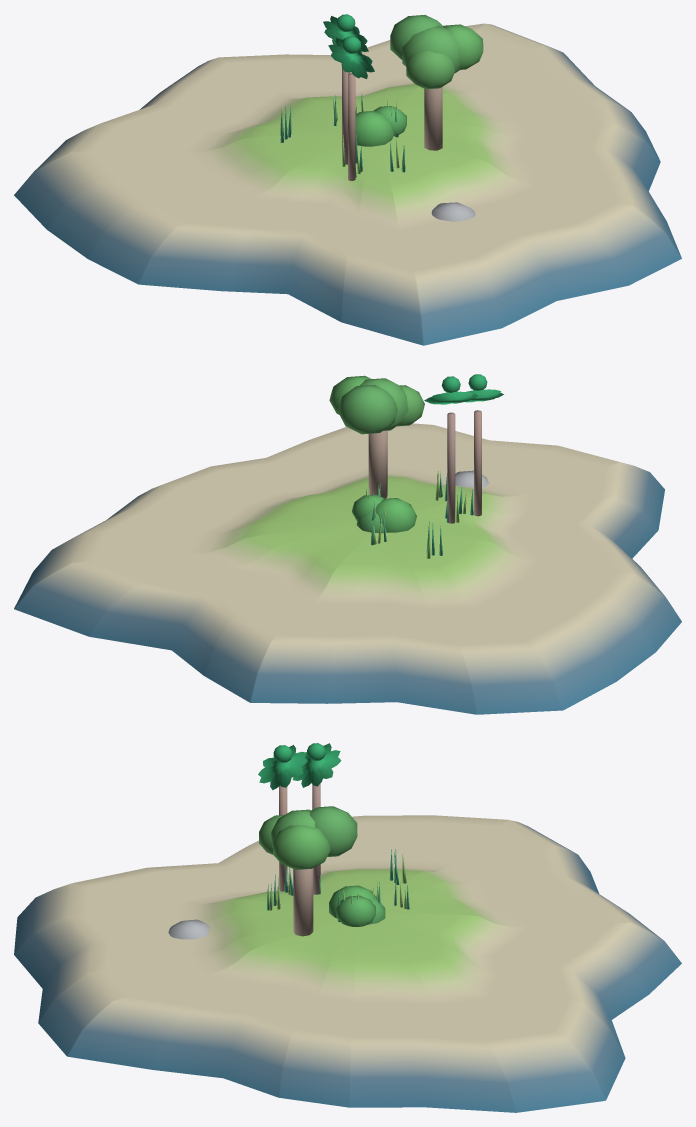
File: terrain_island_12.glb
3 views of the same model, one above another, from view 1: azimuth 30°, elevation 25°; view 2: azimuth 150°, elevation 25°; view 3: azimuth 270°, elevation 25° (orthographic). The views are drawn at different scales.
Visible parts, largest first — view 1: island_terrain, veg_tree2_tree_crown_0, veg_tree2_tree_crown_c, veg_tree2_tree_trunk, veg_shrub0_ball0, veg_tree2_tree_crown_2, veg_tree2_tree_crown_1, veg_tree1_palm_trunk, rock0, veg_tree0_palm_trunk, veg_shrub0_ball2; view 2: island_terrain, veg_tree2_tree_crown_1, veg_tree2_tree_trunk, veg_shrub0_ball0, veg_tree0_palm_trunk, veg_tree1_palm_trunk, veg_tree2_tree_crown_c, veg_tree2_tree_crown_0, veg_tree2_tree_crown_2; view 3: island_terrain, veg_tree2_tree_crown_2, veg_tree2_tree_crown_1, veg_tree2_tree_trunk, veg_shrub0_ball2, rock0, veg_tree2_tree_crown_c, veg_shrub0_ball0.
Boxes of the visible parts, bbox=[...] form: island_terrain: bbox=[14, 23, 681, 345]; veg_tree2_tree_crown_0: bbox=[406, 50, 454, 89]; veg_tree2_tree_crown_c: bbox=[402, 25, 460, 73]; veg_tree2_tree_trunk: bbox=[424, 87, 442, 150]; veg_shrub0_ball0: bbox=[355, 111, 393, 146]; veg_tree2_tree_crown_2: bbox=[443, 24, 483, 69]; veg_tree2_tree_crown_1: bbox=[390, 15, 443, 59]; veg_tree1_palm_trunk: bbox=[348, 73, 355, 180]; rock0: bbox=[431, 202, 475, 221]; veg_tree0_palm_trunk: bbox=[342, 68, 349, 164]; veg_shrub0_ball2: bbox=[373, 106, 406, 135]; island_terrain: bbox=[14, 423, 681, 714]; veg_tree2_tree_crown_1: bbox=[338, 385, 397, 434]; veg_tree2_tree_trunk: bbox=[368, 430, 387, 498]; veg_shrub0_ball0: bbox=[375, 498, 416, 532]; veg_tree0_palm_trunk: bbox=[447, 412, 455, 523]; veg_tree1_palm_trunk: bbox=[474, 410, 481, 516]; veg_tree2_tree_crown_c: bbox=[359, 378, 408, 430]; veg_tree2_tree_crown_0: bbox=[397, 385, 424, 426]; veg_tree2_tree_crown_2: bbox=[329, 375, 371, 414]; island_terrain: bbox=[14, 815, 681, 1112]; veg_tree2_tree_crown_2: bbox=[272, 825, 330, 869]; veg_tree2_tree_crown_1: bbox=[309, 806, 357, 856]; veg_tree2_tree_trunk: bbox=[293, 868, 313, 936]; veg_shrub0_ball2: bbox=[336, 895, 375, 926]; rock0: bbox=[168, 919, 209, 939]; veg_tree2_tree_crown_c: bbox=[271, 809, 314, 847]; veg_shrub0_ball0: bbox=[329, 885, 376, 918].
Size of the model in its own units: 158 by 55.17 by 161.
